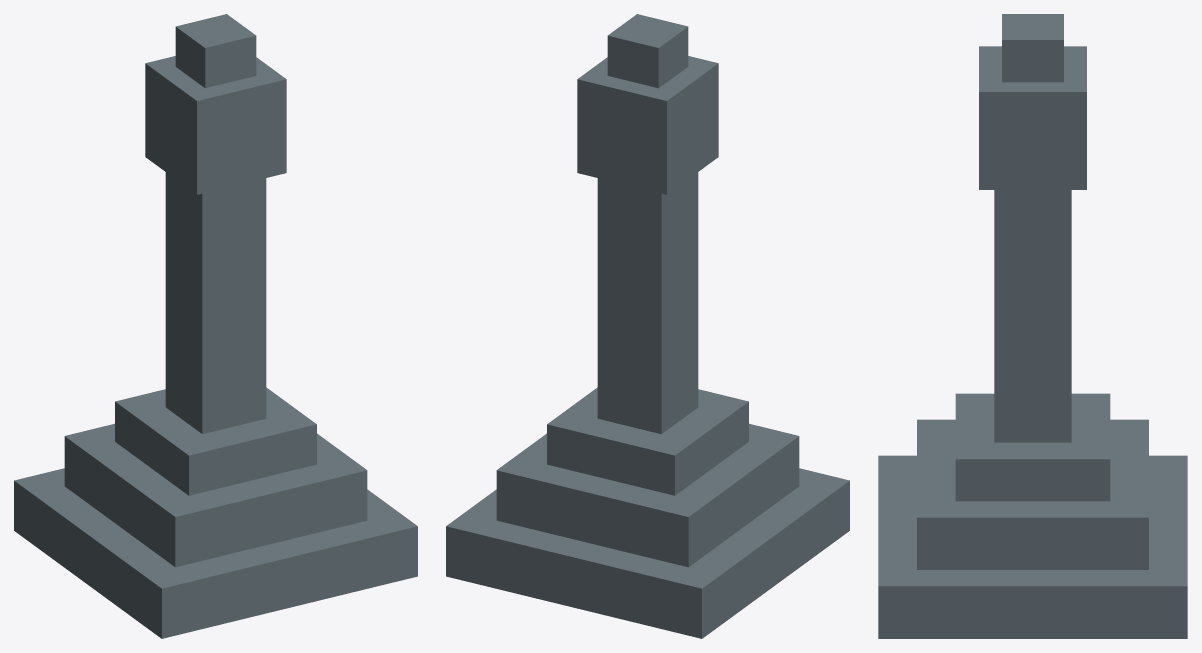
Rendered from beacon.glb.
3 renders of one model, left to right at view 1: azimuth 30°, elevation 25°; view 2: azimuth 150°, elevation 25°; view 3: azimuth 270°, elevation 25°, orthographic. The views are drawn at different scales.
Parts seen in each view (by area): view 1: beacon; view 2: beacon; view 3: beacon.
Part boxes in pixels (<box>): beacon: <box>14,14,417,638</box>; beacon: <box>446,14,849,638</box>; beacon: <box>878,14,1187,638</box>.
Bounding box in the file's own units: 1.6 × 3.12 × 1.6.
